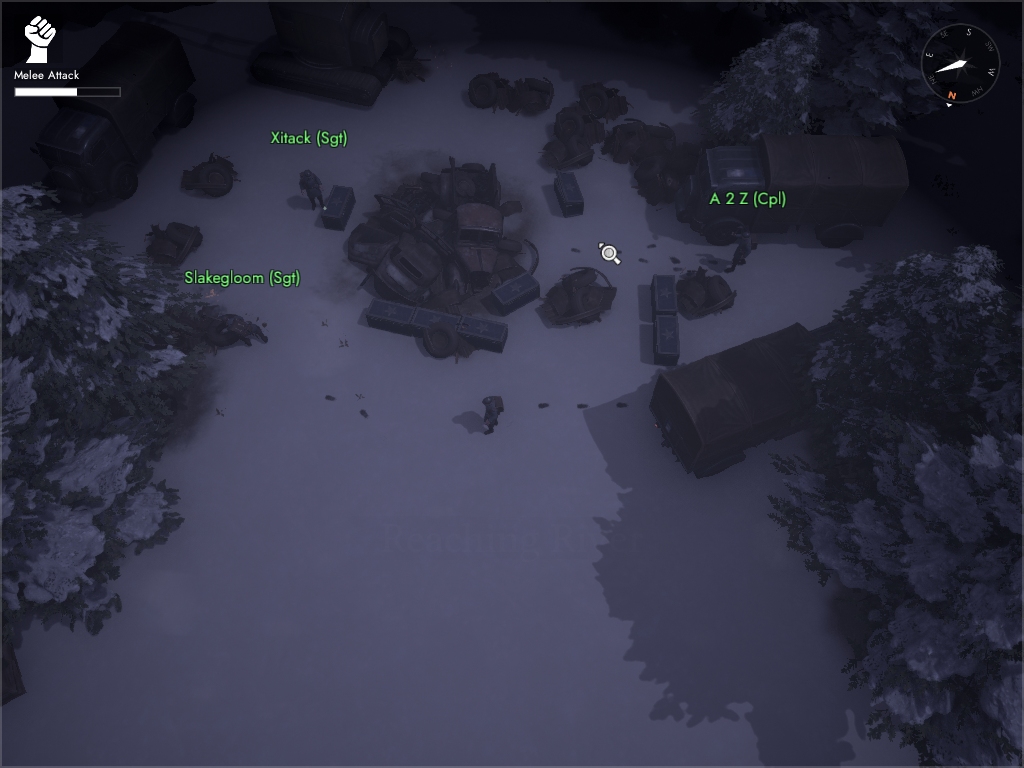crane: (252, 1, 407, 108)
player: (724, 227, 758, 273), (299, 169, 324, 211), (481, 395, 503, 434)
scrap: (536, 261, 621, 331), (638, 142, 706, 204), (180, 299, 266, 348), (605, 113, 672, 170), (673, 268, 738, 322), (143, 218, 204, 273), (181, 152, 243, 199), (571, 80, 635, 122), (504, 72, 562, 118), (549, 104, 609, 146), (463, 68, 513, 118), (541, 134, 595, 169), (388, 45, 432, 87)
storage_box: (454, 312, 509, 357), (489, 272, 544, 313), (363, 295, 418, 335), (410, 307, 463, 345), (318, 182, 355, 232), (550, 169, 585, 217), (651, 310, 680, 367), (650, 273, 677, 317)
truck: (648, 320, 835, 480), (35, 18, 195, 203), (676, 133, 909, 249)
